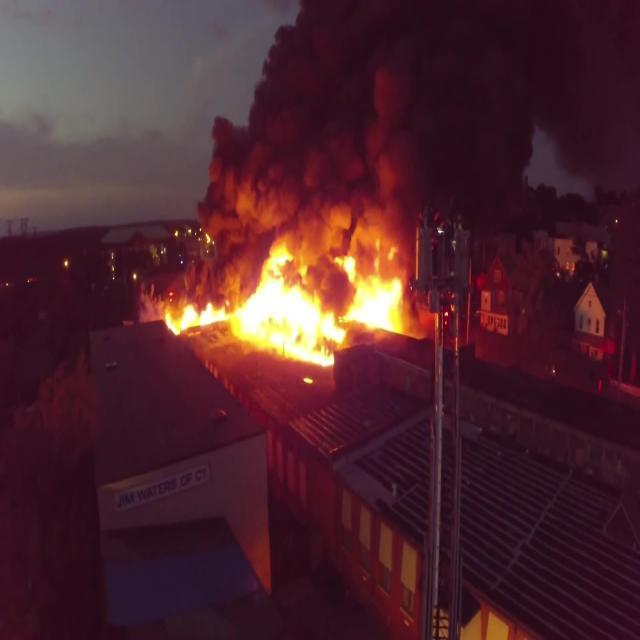Fire: (162, 248, 417, 376)
Smoke: (197, 0, 640, 261)
